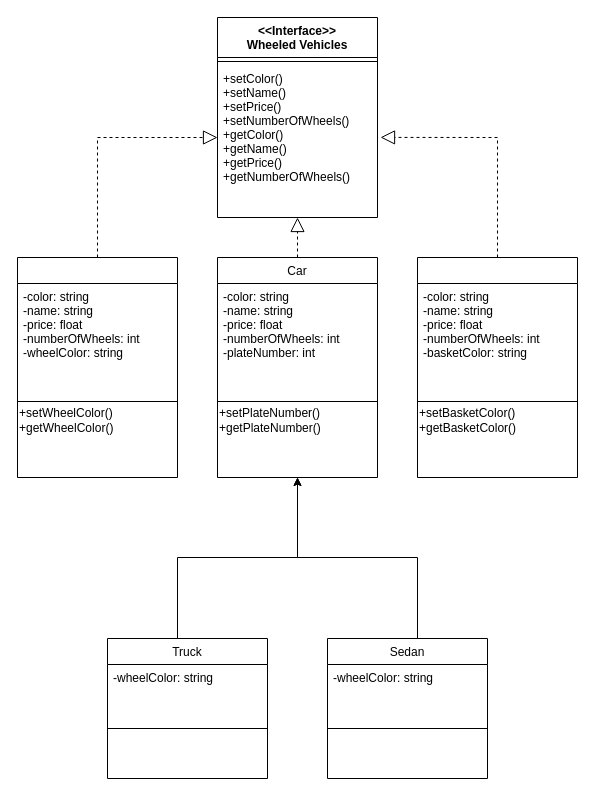
The diagram is 595 pixels wide and 796 high, and some of its shapes have lost their labels. Each missing label, with the box of its shape:
Bicycle: (416, 256, 578, 478)
Skateboard: (16, 256, 178, 478)
